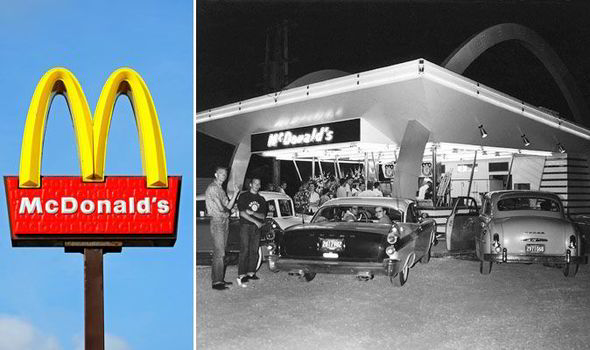mcdonalds: (17, 66, 169, 189)
